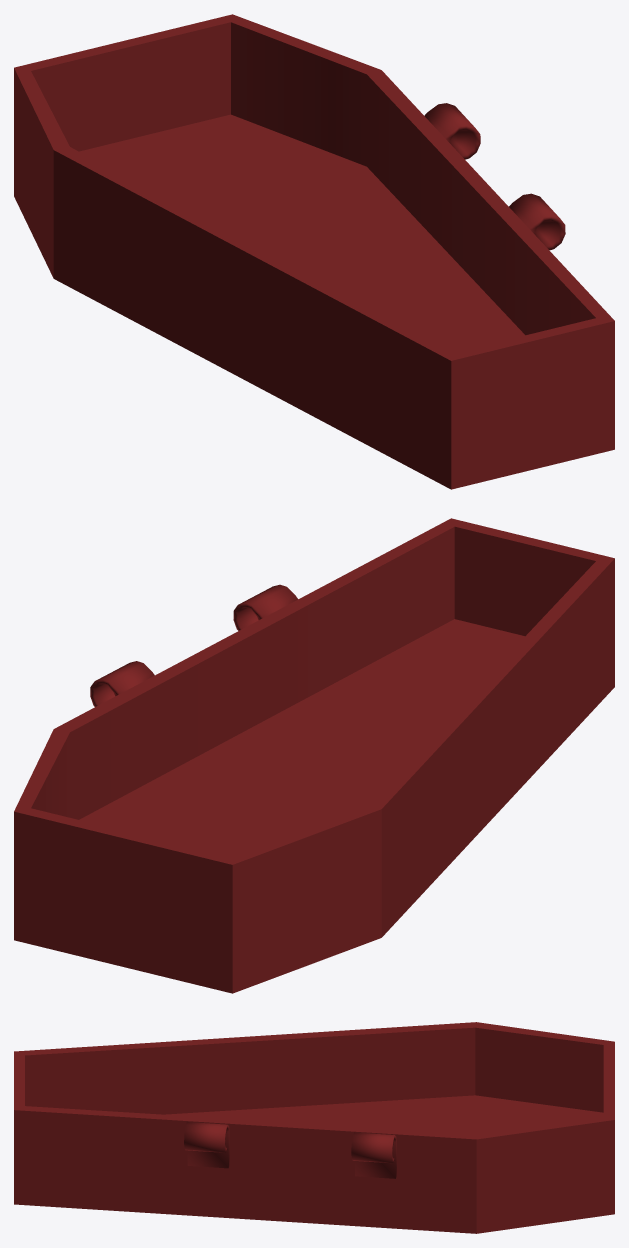
The model's file is Coffin_Bot_Low.FBX.
The picture shows the model from 3 angles, top to bottom: view 1: azimuth 30°, elevation 25°; view 2: azimuth 150°, elevation 25°; view 3: azimuth 270°, elevation 25°; orthographic projection. The views are drawn at different scales.
Visible parts, largest first — view 1: Bot; view 2: Bot; view 3: Bot.
Boxes of the visible parts, x1=… form: Bot: x1=14, y1=14, x2=614, y2=489; Bot: x1=14, y1=518, x2=614, y2=993; Bot: x1=14, y1=1022, x2=614, y2=1233.
Size of the model in its own units: 95.96 by 35.51 by 195.
